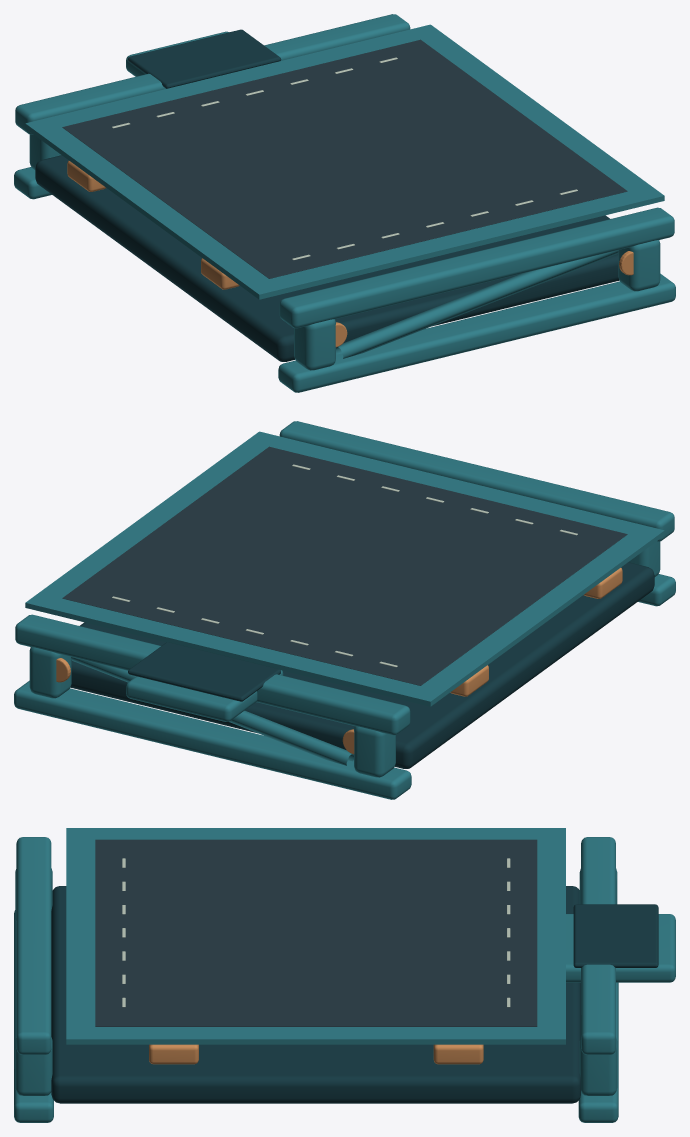
Rendered from approved_soft_track_tile.glb.
3 views of the same model, one above another, from view 1: azimuth 30°, elevation 25°; view 2: azimuth 150°, elevation 25°; view 3: azimuth 270°, elevation 25° (orthographic). The views are drawn at different scales.
Visible parts, largest first — view 1: approved_track_Craft_MOD_rubber_tread_batch, approved_track_Craft_MOD_ocean_shell_batch, approved_track_Craft_MOD_chassis_dark_batch, approved_track_Craft_MOD_copper_latch_batch, approved_track_Craft_MOD_inlaid_mark_batch; view 2: approved_track_Craft_MOD_rubber_tread_batch, approved_track_Craft_MOD_ocean_shell_batch, approved_track_Craft_MOD_chassis_dark_batch, approved_track_Craft_MOD_copper_latch_batch, approved_track_Craft_MOD_inlaid_mark_batch; view 3: approved_track_Craft_MOD_rubber_tread_batch, approved_track_Craft_MOD_ocean_shell_batch, approved_track_Craft_MOD_chassis_dark_batch, approved_track_Craft_MOD_copper_latch_batch, approved_track_Craft_MOD_inlaid_mark_batch.
Part boxes in pixels (left/top/right/bottom): approved_track_Craft_MOD_rubber_tread_batch: left=62, top=39, right=627, bottom=278; approved_track_Craft_MOD_ocean_shell_batch: left=14, top=14, right=675, bottom=392; approved_track_Craft_MOD_chassis_dark_batch: left=35, top=29, right=619, bottom=361; approved_track_Craft_MOD_copper_latch_batch: left=67, top=161, right=633, bottom=347; approved_track_Craft_MOD_inlaid_mark_batch: left=112, top=57, right=577, bottom=260; approved_track_Craft_MOD_rubber_tread_batch: left=62, top=446, right=627, bottom=685; approved_track_Craft_MOD_ocean_shell_batch: left=14, top=421, right=675, bottom=799; approved_track_Craft_MOD_chassis_dark_batch: left=70, top=562, right=654, bottom=768; approved_track_Craft_MOD_copper_latch_batch: left=56, top=568, right=622, bottom=754; approved_track_Craft_MOD_inlaid_mark_batch: left=112, top=464, right=577, bottom=667; approved_track_Craft_MOD_rubber_tread_batch: left=95, top=839, right=537, bottom=1026; approved_track_Craft_MOD_ocean_shell_batch: left=14, top=828, right=675, bottom=1122; approved_track_Craft_MOD_chassis_dark_batch: left=51, top=886, right=658, bottom=1103; approved_track_Craft_MOD_copper_latch_batch: left=149, top=1044, right=483, bottom=1064; approved_track_Craft_MOD_inlaid_mark_batch: left=122, top=858, right=510, bottom=1007.
Size of the model in its own units: 2 by 0.41 by 2.65.
